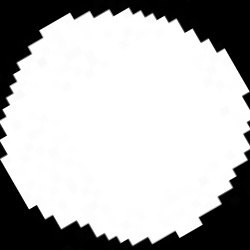spot: (0, 8, 249, 245)
